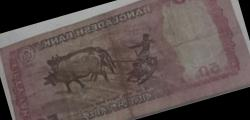50 taka: (1, 6, 232, 120)
